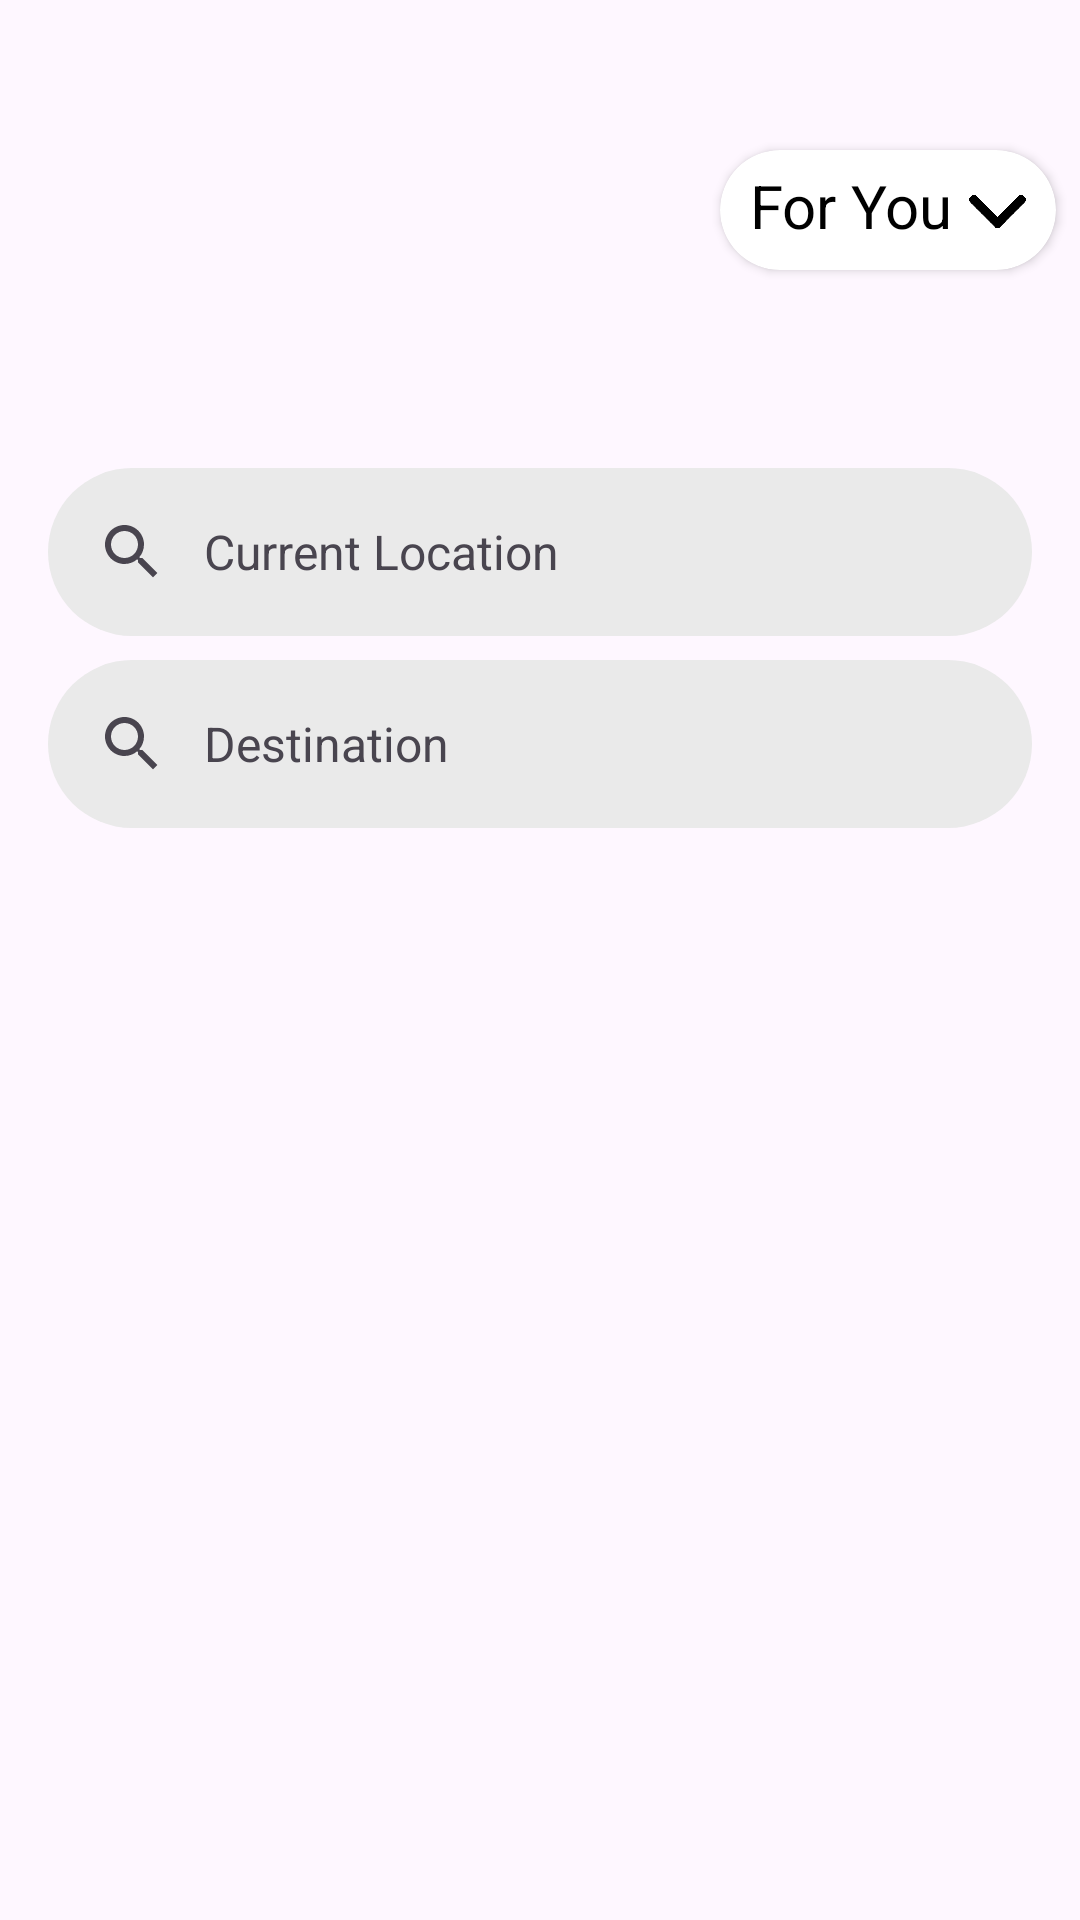

Named icons in this screenshot (1080×1920) and their bounding boxes, [x1, y1, x2, y2]:
arroww: [969, 195, 1026, 228]
